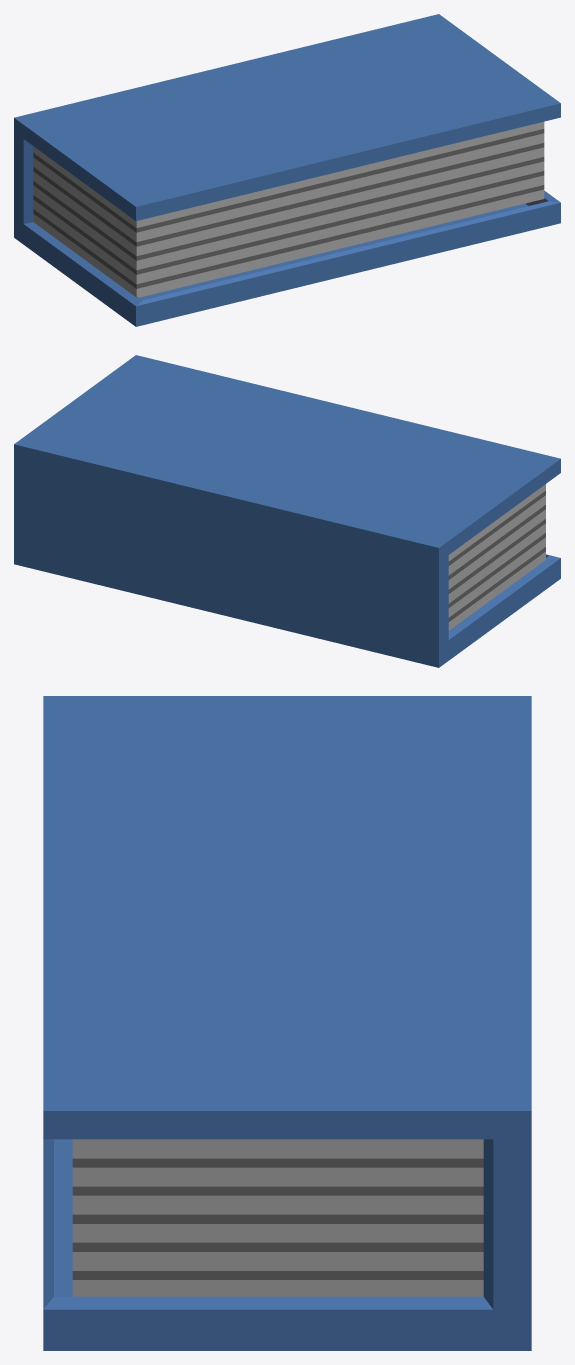
Rendered from book.fbx.
3 renders of one model, top to bottom at view 1: azimuth 30°, elevation 25°; view 2: azimuth 150°, elevation 25°; view 3: azimuth 270°, elevation 25°, orthographic. The views are drawn at different scales.
Parts seen in each view (by area): view 1: Cube.001; view 2: Cube.001; view 3: Cube.001.
Part boxes in pixels (<box>): Cube.001: <box>14,14,560,326</box>; Cube.001: <box>14,355,560,667</box>; Cube.001: <box>43,696,531,1350</box>.
Bounding box in the file's own units: 548 × 148 × 273.
